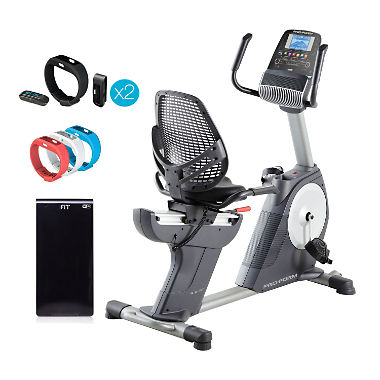gym_bike: (133, 27, 366, 344)
